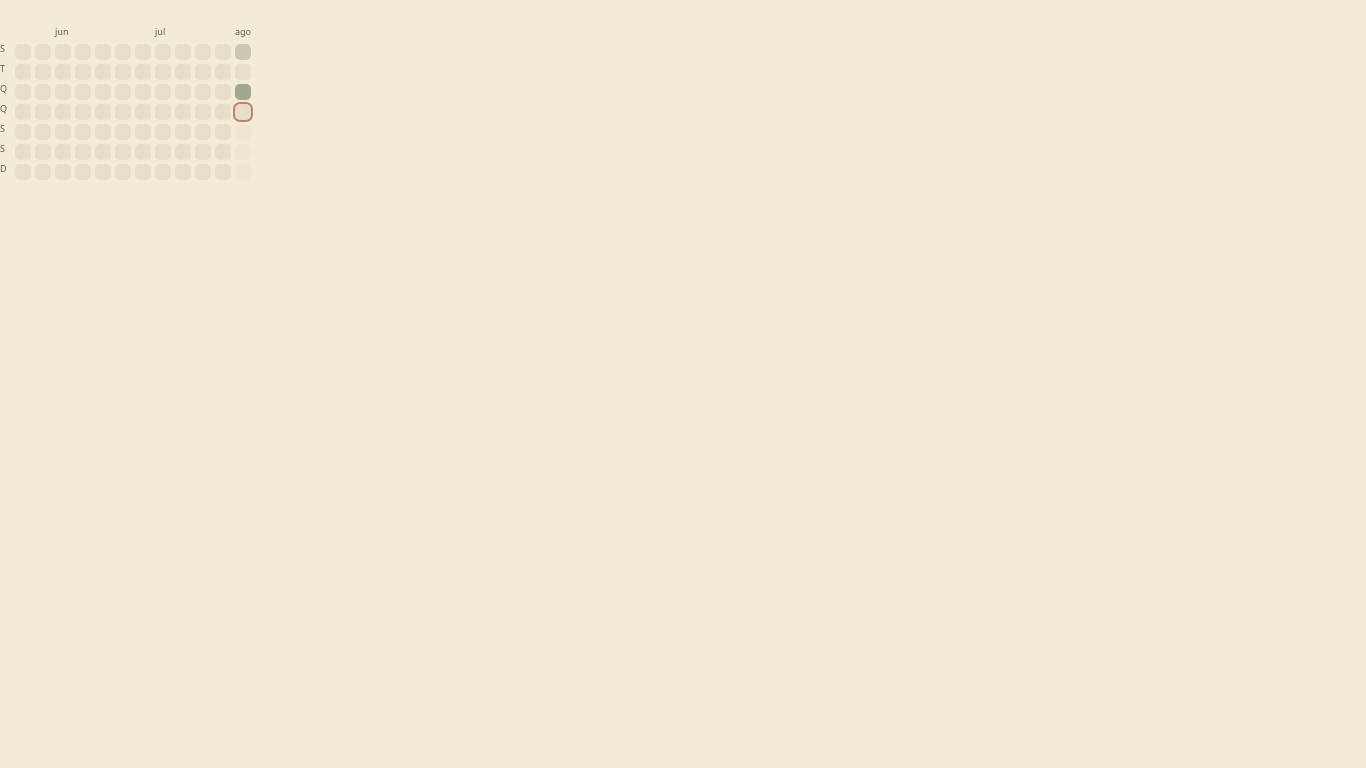
Test case: MapaCalor › abre o popover do dia e lista as práticas concluídas com tempo total
Click the button named "05 de ago. — 2 práticas".
click(243, 92)  # box 235,84 -> 251,100
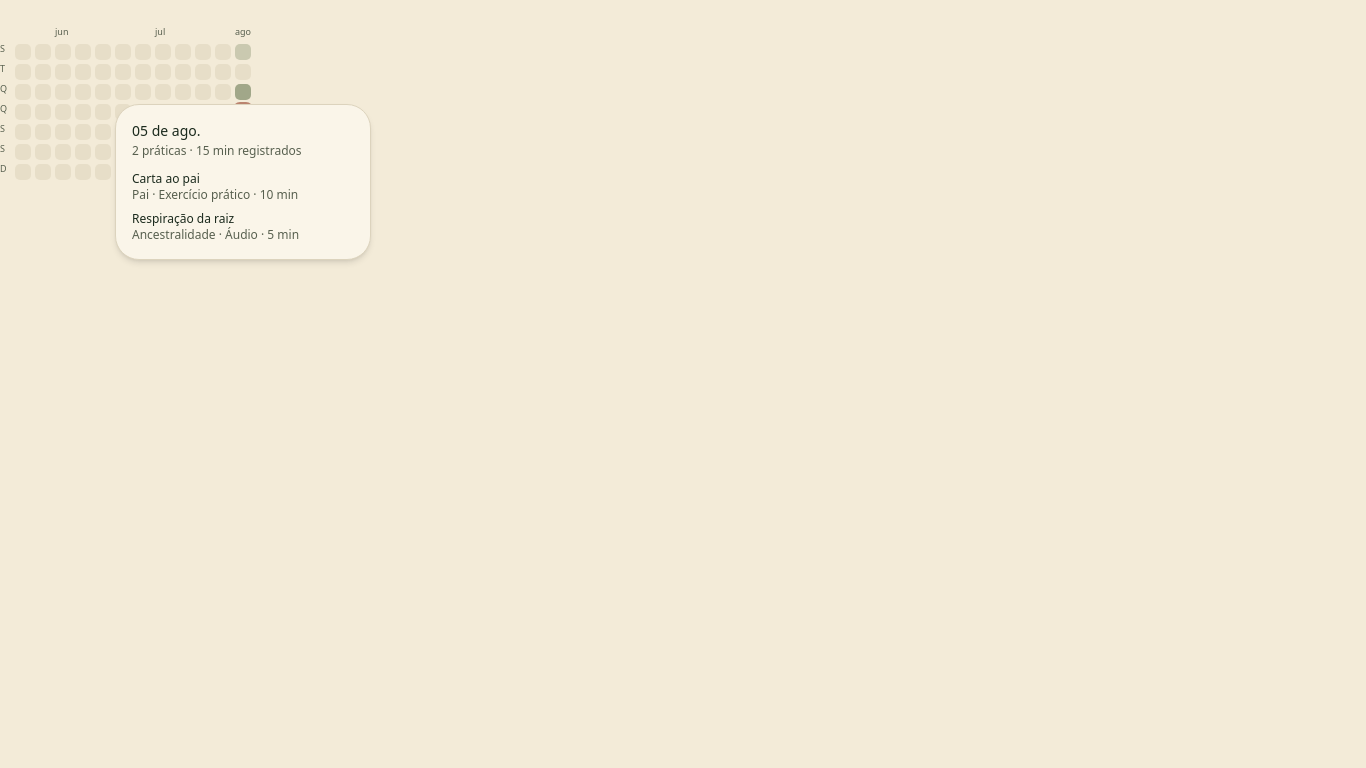
Expected: the text "2 práticas · 15 min registrados" is shown, 132,142 -> 302,159
Expected: the text "Carta ao pai" is shown, 132,170 -> 200,187
Expected: the text "Pai · Exercício prático · 10 min" is shown, 132,186 -> 298,203
